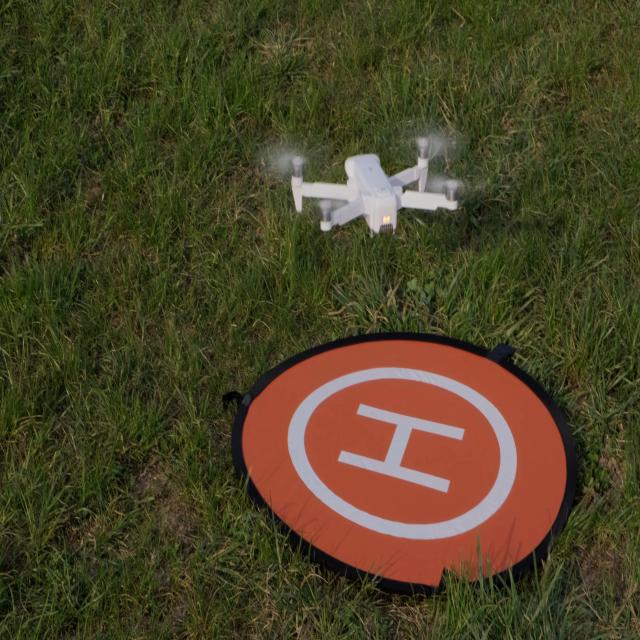drone: (290, 134, 462, 238)
